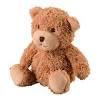teddy: (8, 4, 96, 96)
